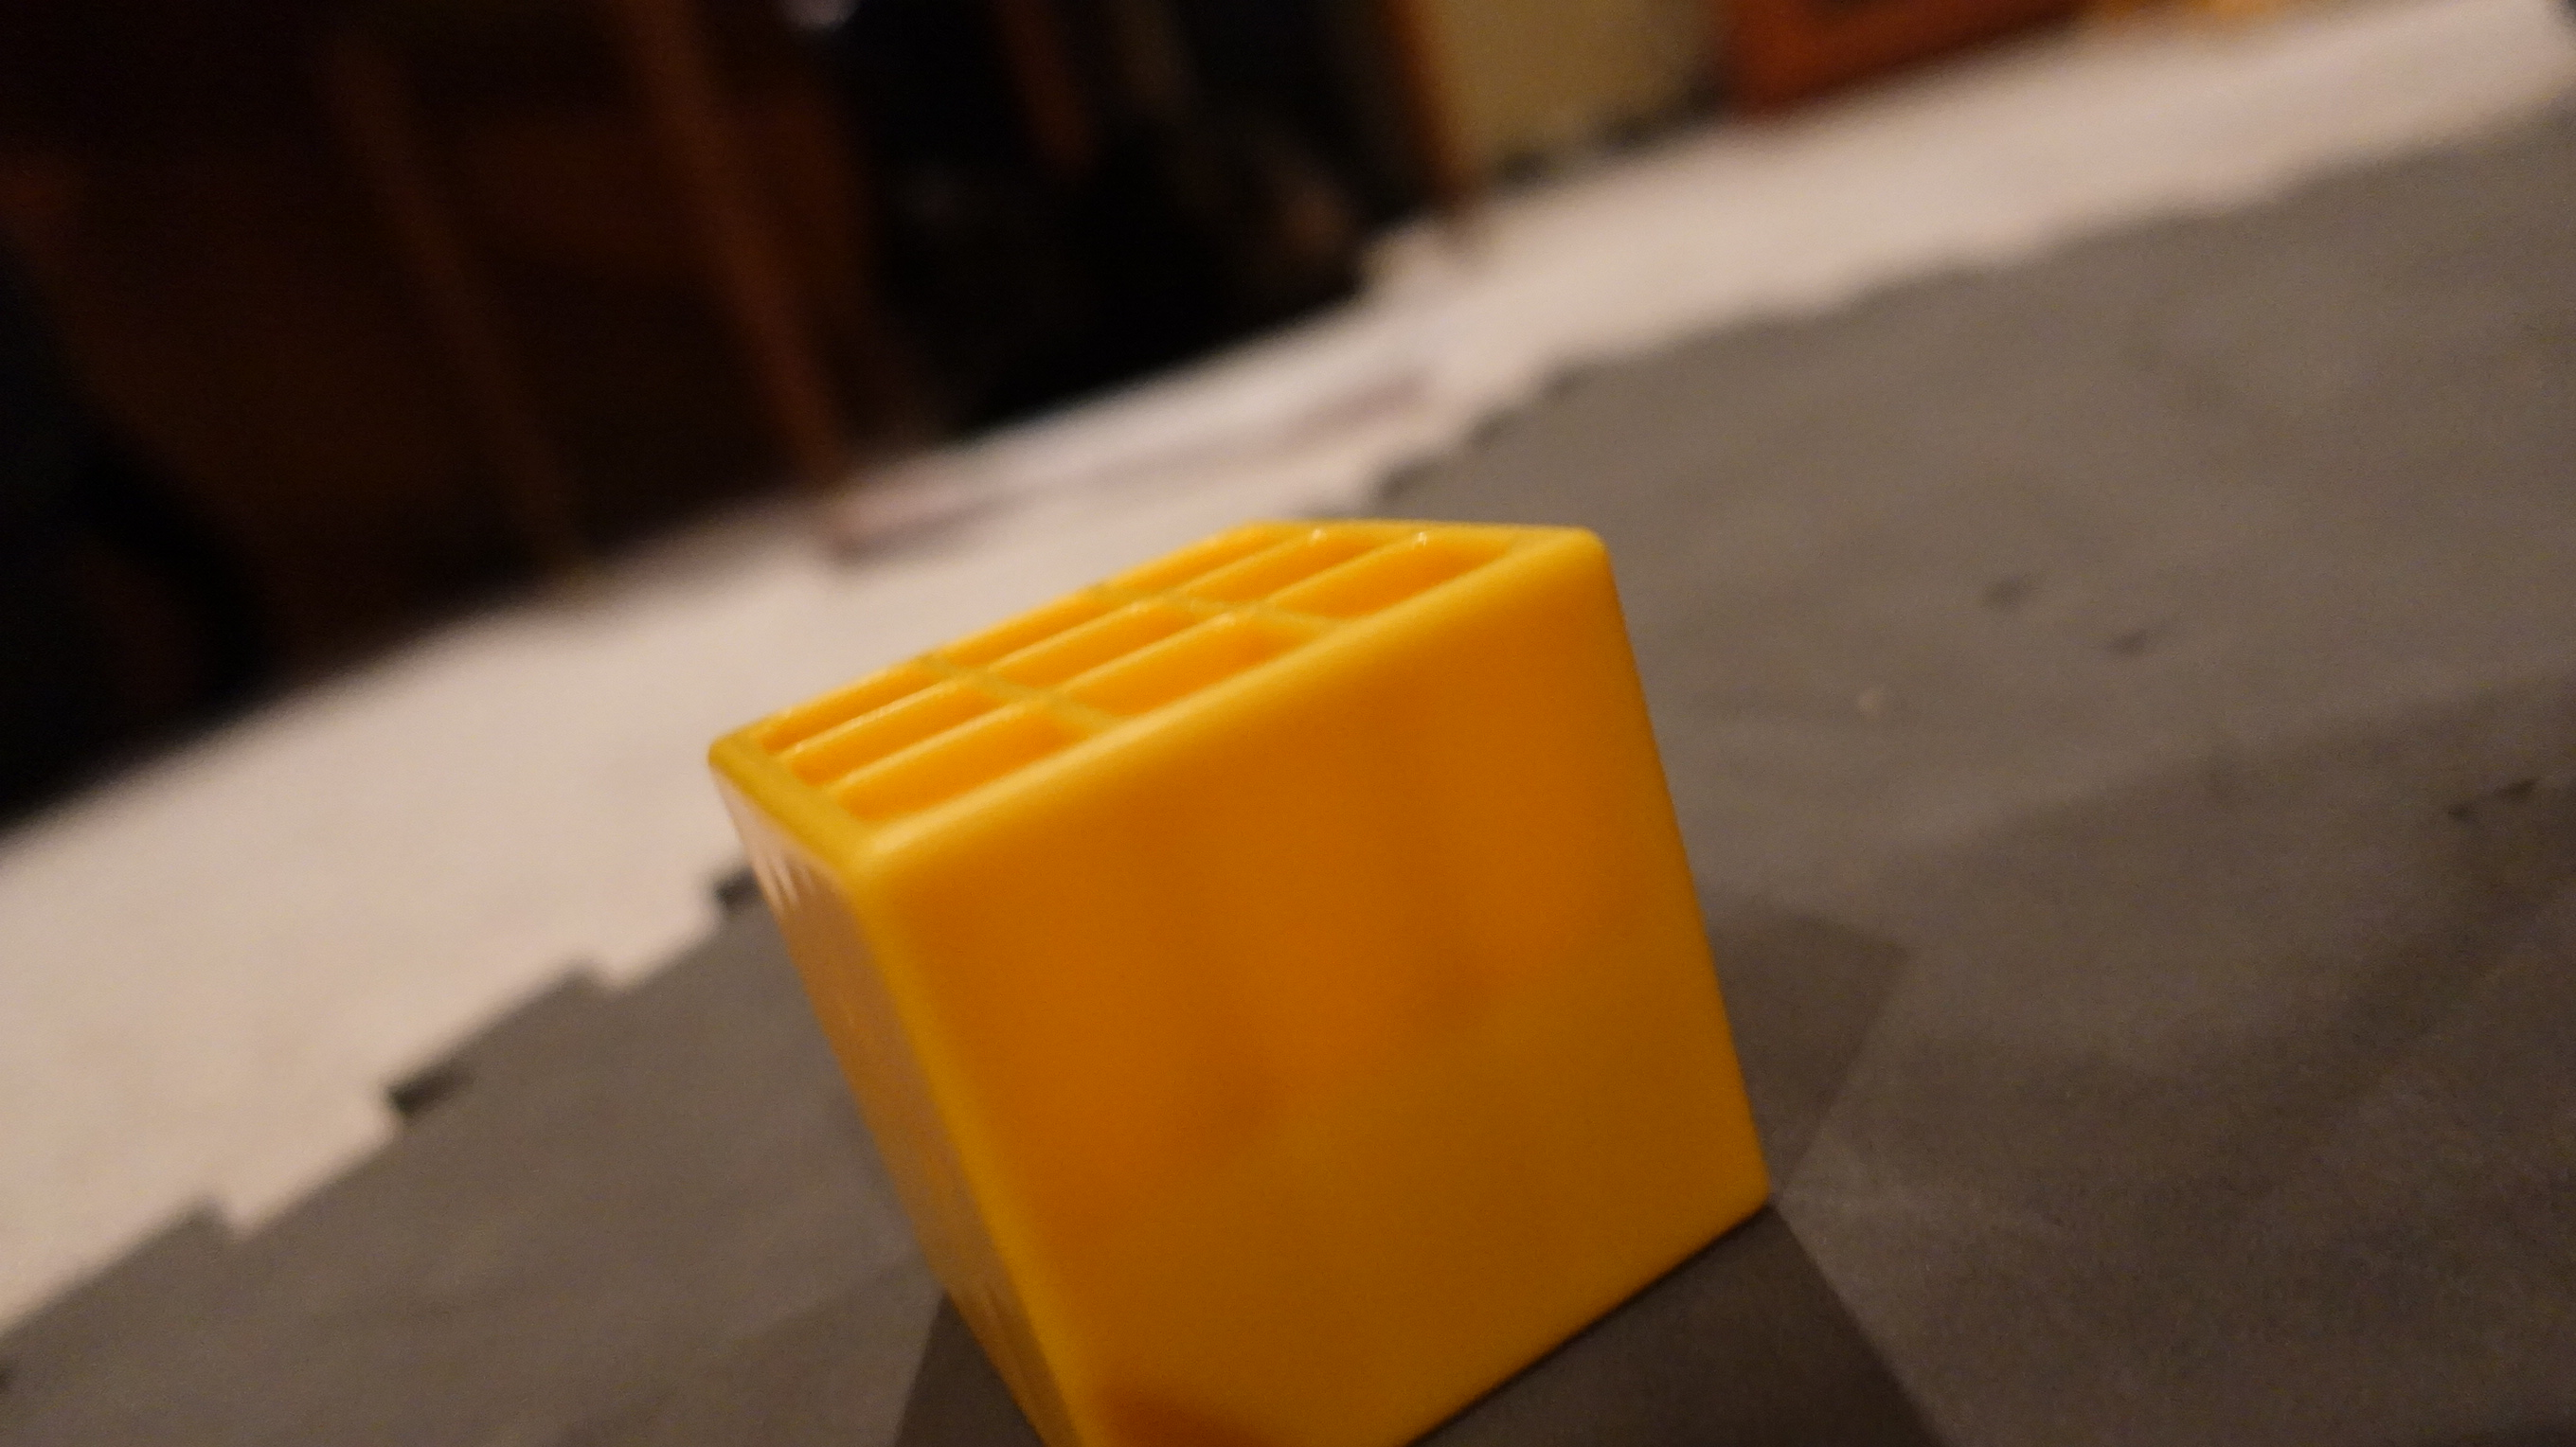gold: (699, 502, 1790, 1447)
